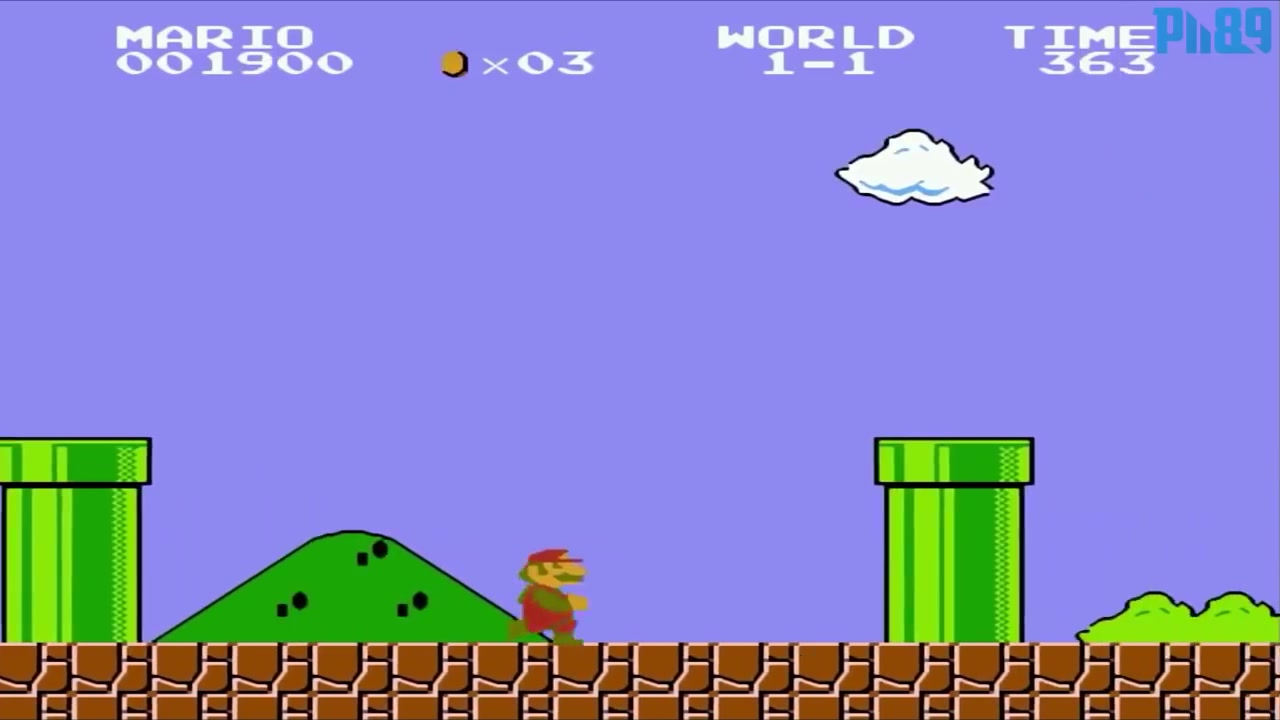mario: (493, 541, 603, 644)
